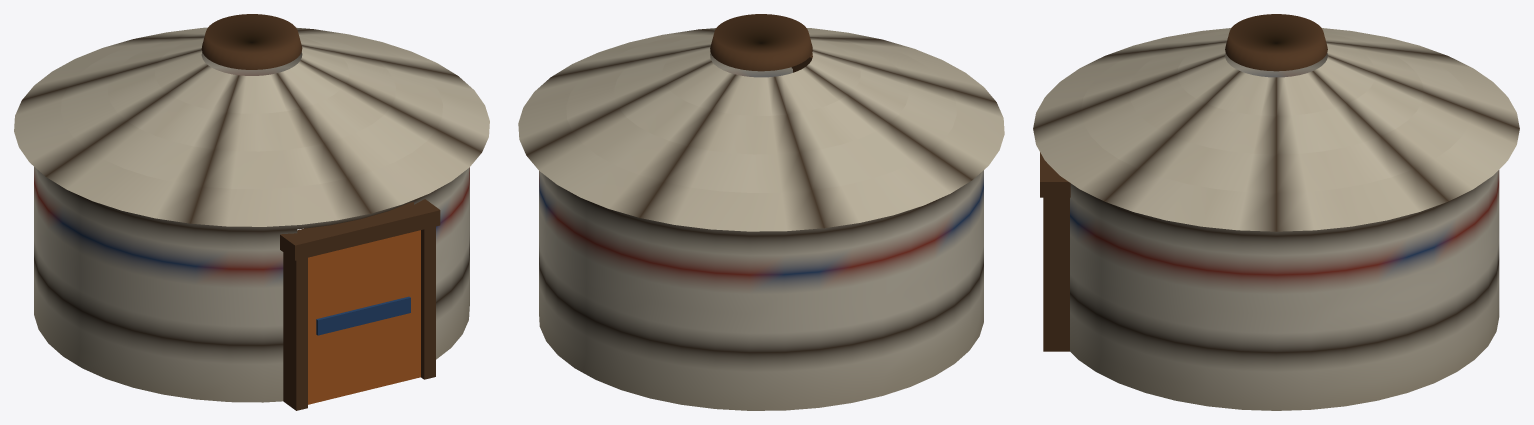
Rendered from yurt-3.glb.
3 renders of one model, left to right at view 1: azimuth 30°, elevation 25°; view 2: azimuth 150°, elevation 25°; view 3: azimuth 270°, elevation 25°, orthographic. The views are drawn at different scales.
Parts seen in each view (by area): view 1: yurt-3; view 2: yurt-3; view 3: yurt-3.
Boxes of the visible parts, left/top/right/bottom form: yurt-3: left=14, top=14, right=489, bottom=410; yurt-3: left=518, top=14, right=1004, bottom=410; yurt-3: left=1033, top=14, right=1519, bottom=410.
Size of the model in its own units: 2.84 by 1.82 by 2.84.
